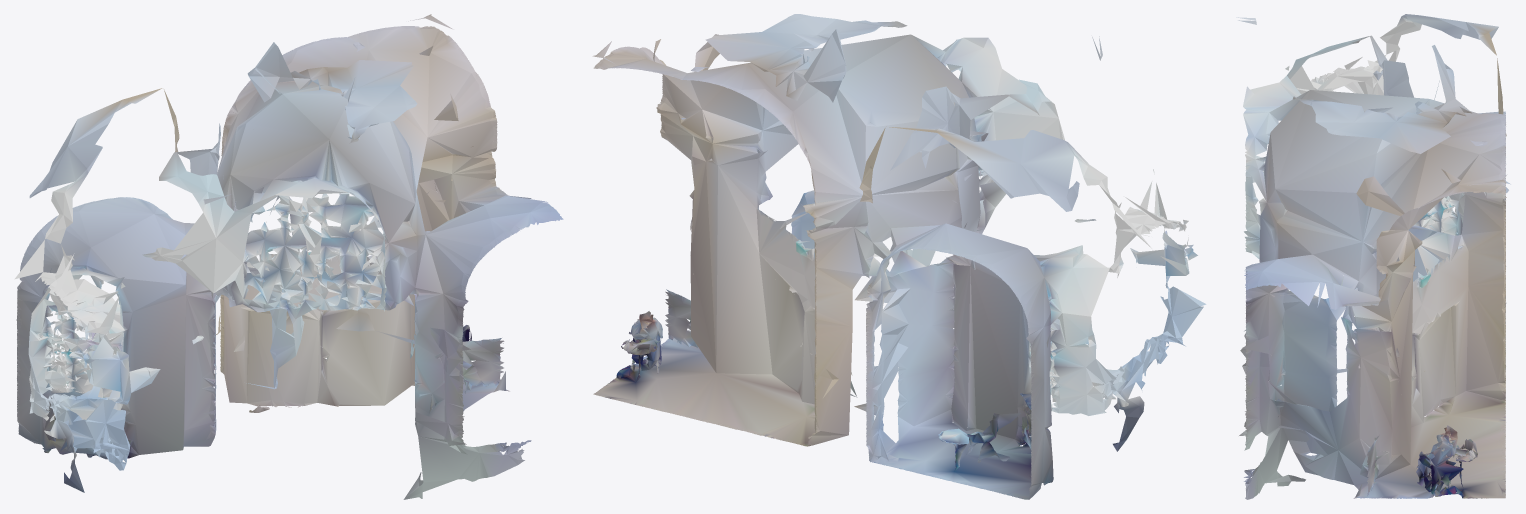
The picture shows the model from 3 angles, left to right: view 1: azimuth 30°, elevation 25°; view 2: azimuth 150°, elevation 25°; view 3: azimuth 270°, elevation 25°; orthographic projection. The views are drawn at different scales.
Size of the model in its own units: 10.68 by 8.71 by 5.31.
